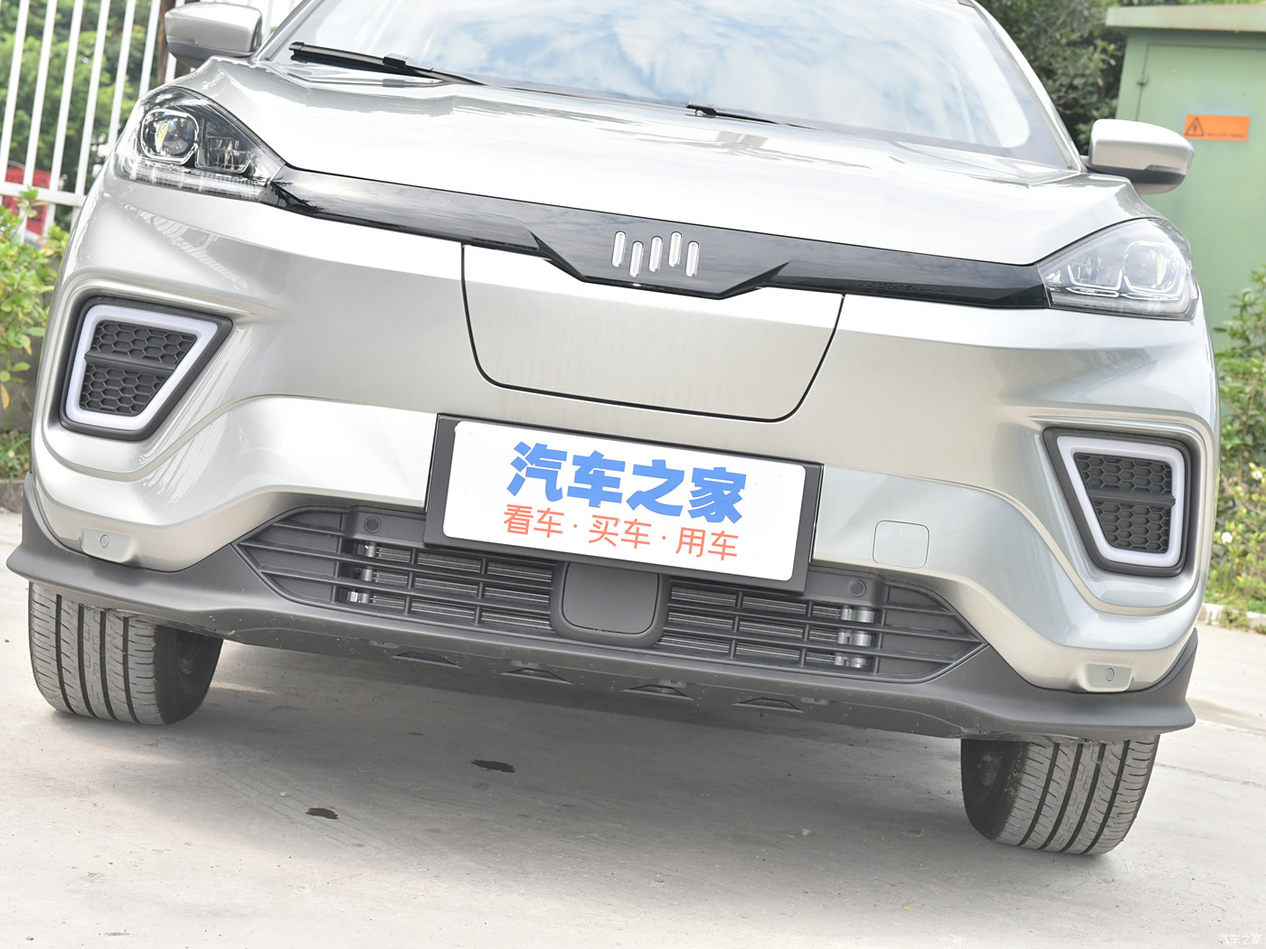WELTMEISTER: (613, 232, 697, 276)
